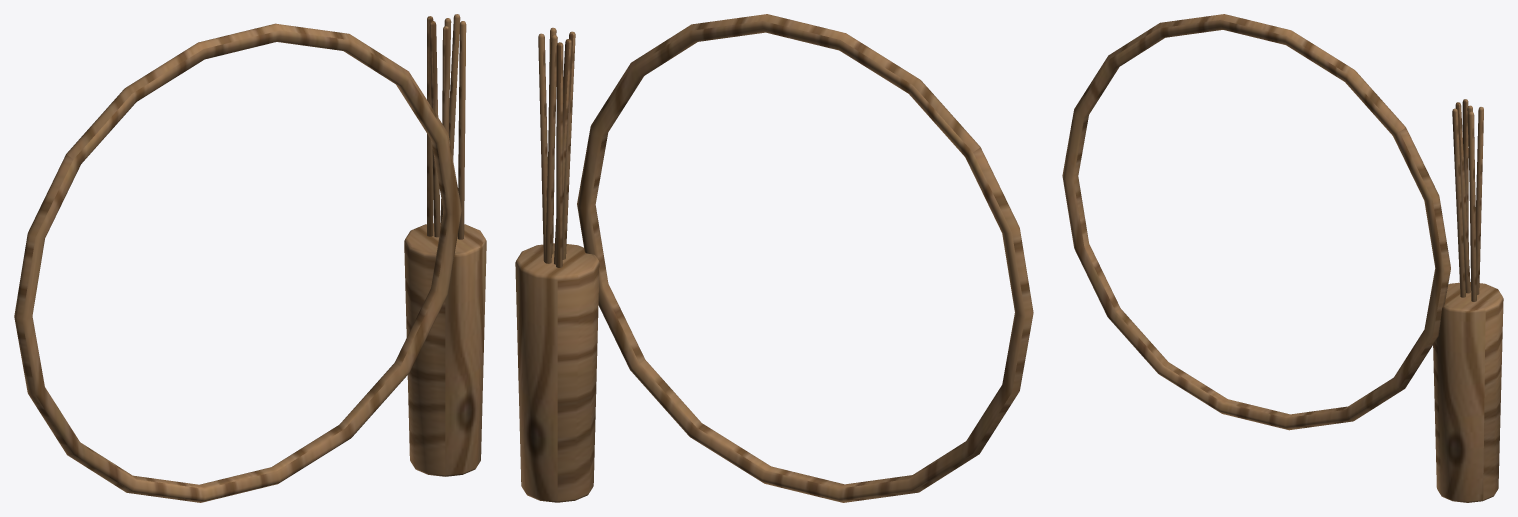
The model's file is p_bowarrows.glb.
3 views of the same model, side by side, from view 1: azimuth 30°, elevation 25°; view 2: azimuth 150°, elevation 25°; view 3: azimuth 330°, elevation 25° (orthographic). The views are drawn at different scales.
Parts seen in each view (by area): view 1: bowarrows; view 2: bowarrows; view 3: bowarrows.
Part boxes in pixels (<box>): bowarrows: <box>14,14,486,502</box>; bowarrows: <box>515,14,1033,502</box>; bowarrows: <box>1062,14,1503,502</box>.
Size of the model in its own units: 0.9459 by 0.9294 by 0.1452.
1 material, 1 textured.
